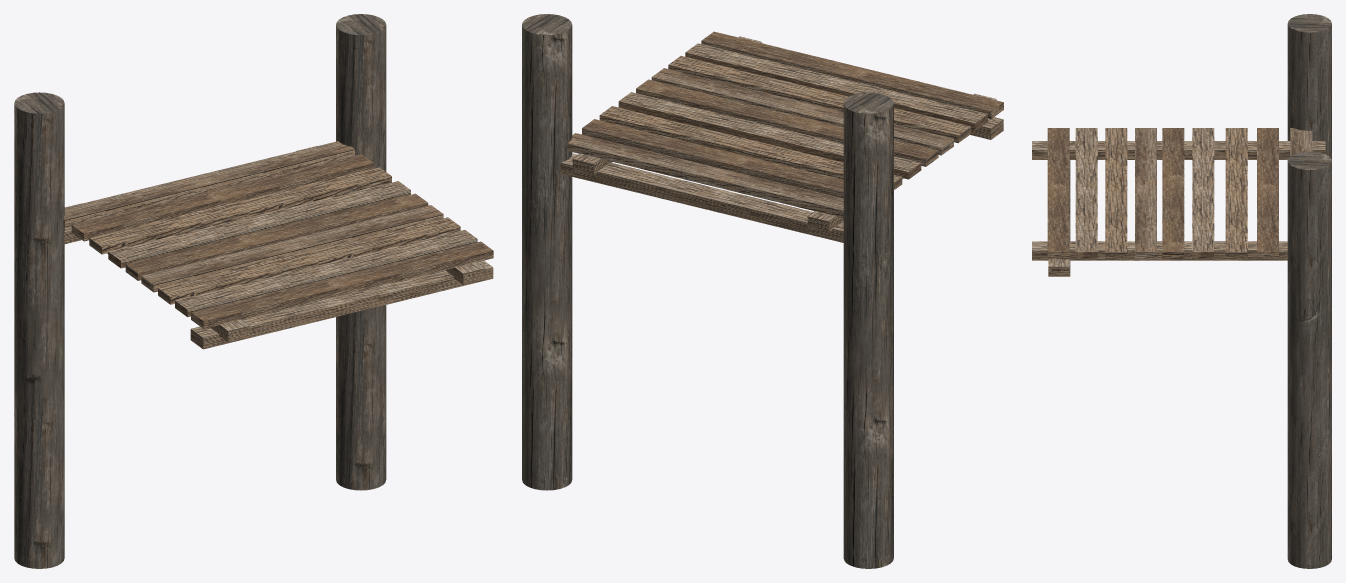
File: plat_2Supports.fbx
3 renders of one model, left to right at view 1: azimuth 30°, elevation 25°; view 2: azimuth 150°, elevation 25°; view 3: azimuth 270°, elevation 25°, orthographic. The views are drawn at different scales.
Parts seen in each view (by area): view 1: postes.002; view 2: postes.002; view 3: postes.002.
Boxes of the visible parts, x1,y1,x2,y2 form: postes.002: (14,14,493,568); postes.002: (522,14,1003,568); postes.002: (1032,14,1331,568).
Size of the model in its own units: 504 by 600 by 409.
3 materials, 3 textured.
